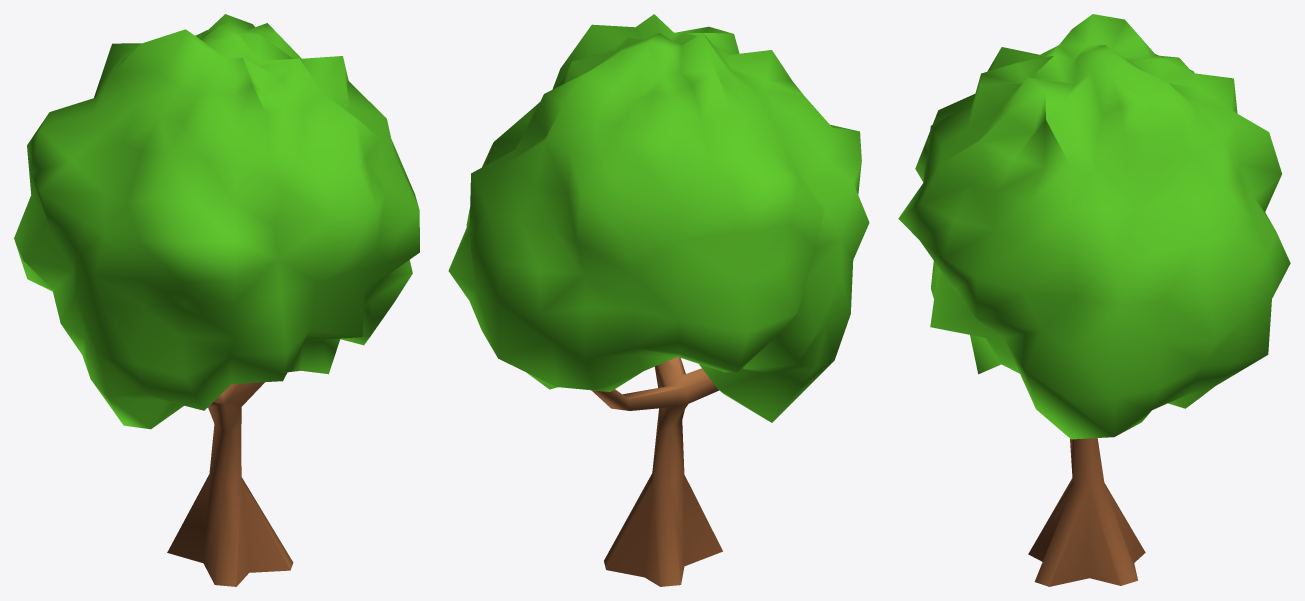
Rendered from Tree_01.fbx.
3 renders of one model, left to right at view 1: azimuth 30°, elevation 25°; view 2: azimuth 150°, elevation 25°; view 3: azimuth 270°, elevation 25°, orthographic.
Visible parts, largest first — view 1: Tree_01; view 2: Tree_01; view 3: Tree_01.
Boxes of the visible parts, x1,y1,x2,y2 form: Tree_01: (14,14,419,586); Tree_01: (448,14,869,586); Tree_01: (898,14,1290,586).
Size of the model in its own units: 2.97 by 4.3 by 2.88.
Materials: 1 (1 with a texture image).
